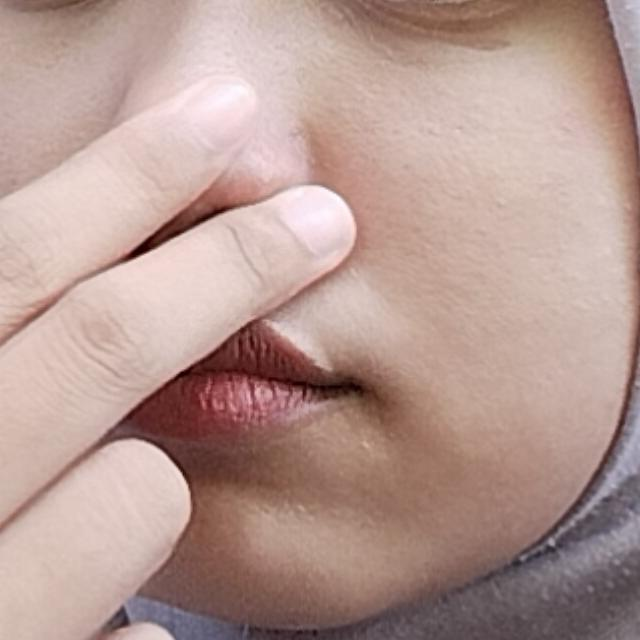bau: (0, 8, 430, 640)
